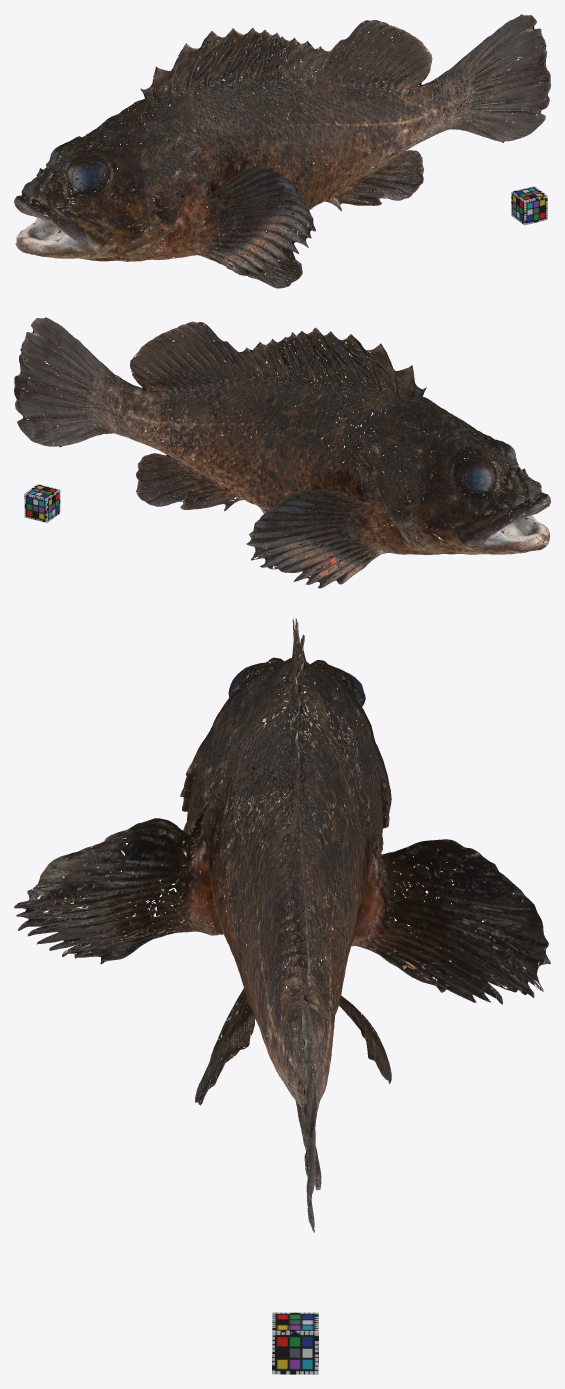
File: scan_rock_spotbelly.glb
The picture shows the model from 3 angles, top to bottom: view 1: azimuth 30°, elevation 25°; view 2: azimuth 150°, elevation 25°; view 3: azimuth 270°, elevation 25°; orthographic projection. The views are drawn at different scales.
Parts seen in each view (by area): view 1: Object_6, Object_13, Object_4; view 2: Object_6, Object_13, Object_4; view 3: Object_13, Object_6, Object_4.
Part boxes in pixels (<box>): Object_6: <box>14,15,550,288</box>; Object_13: <box>14,14,550,288</box>; Object_4: <box>511,186,547,225</box>; Object_6: <box>14,318,550,588</box>; Object_13: <box>15,317,550,588</box>; Object_4: <box>24,484,60,522</box>; Object_13: <box>14,620,550,1232</box>; Object_6: <box>14,618,550,1232</box>; Object_4: <box>272,1312,318,1374</box>.
Size of the model in its own units: 14.96 by 6.98 by 7.38.
Materials: 3 (3 with a texture image).
